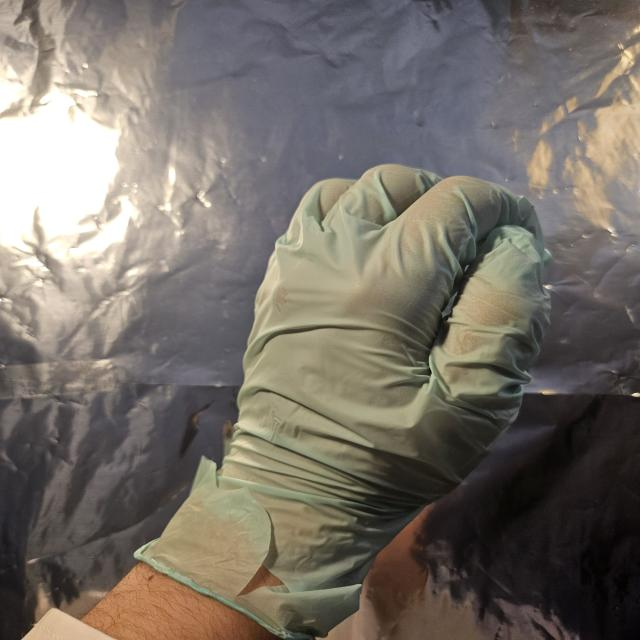gloves_damaged: (134, 162, 552, 640)
